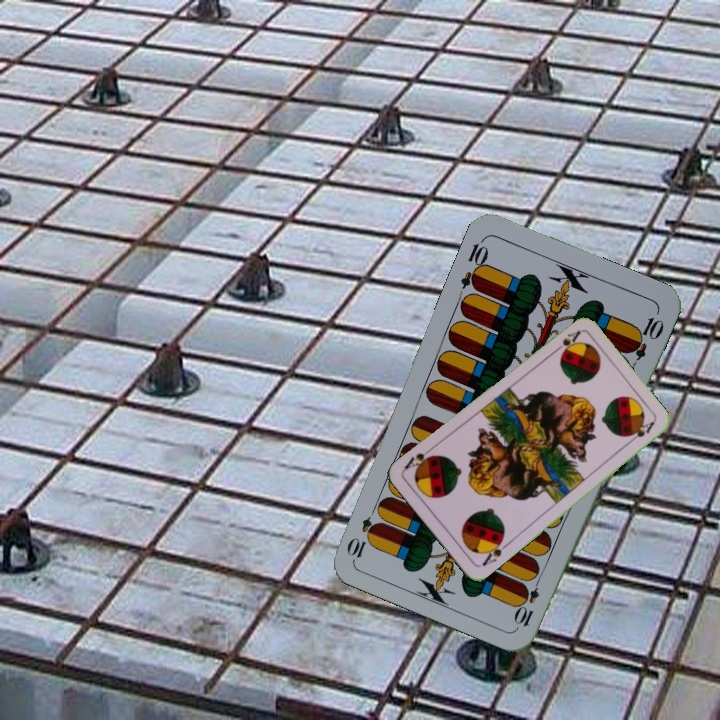E10: (456, 234, 492, 293), (512, 571, 544, 629)
SA: (478, 534, 511, 569), (548, 327, 583, 356)
